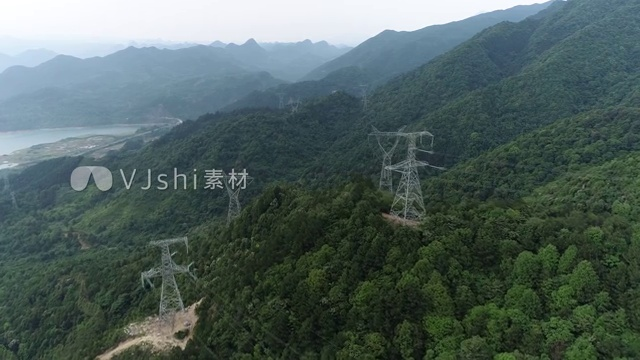tower_body: (140, 233, 197, 335), (364, 122, 408, 196)
tower_foot: (155, 306, 188, 331), (378, 172, 392, 191)
tower_head: (367, 125, 406, 156), (141, 237, 190, 252)
